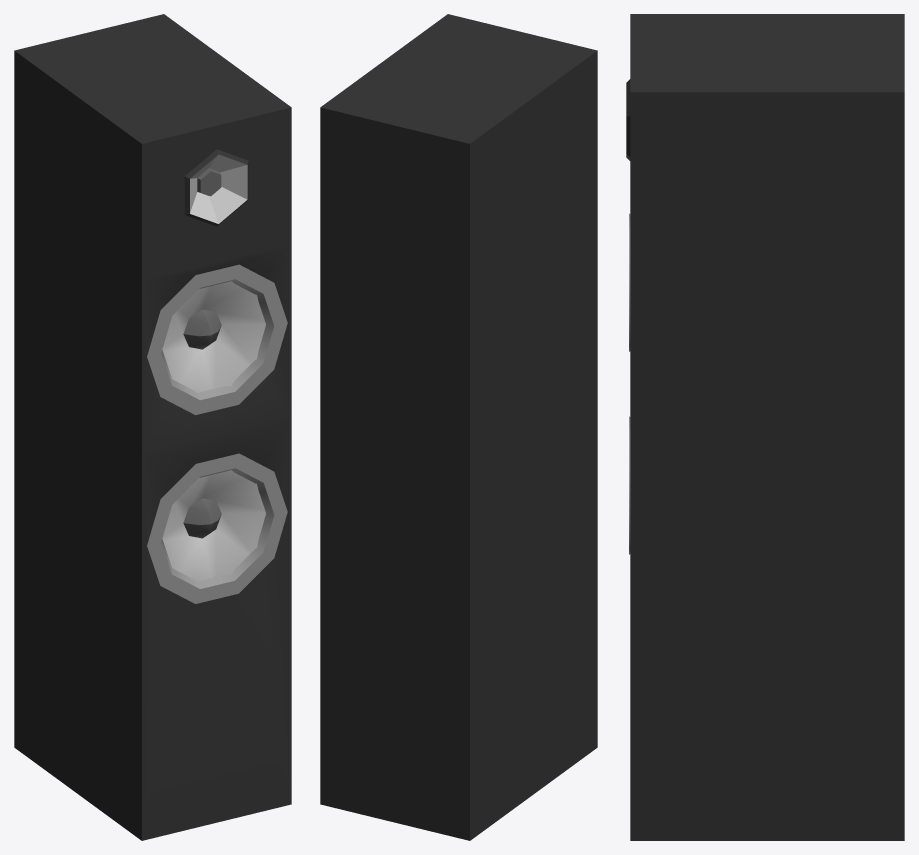
The model's file is Television_Parlante01.fbx.
3 views of the same model, side by side, from view 1: azimuth 30°, elevation 25°; view 2: azimuth 150°, elevation 25°; view 3: azimuth 270°, elevation 25° (orthographic). The views are drawn at different scales.
Parts seen in each view (by area): view 1: Television_Parlante01; view 2: Television_Parlante01; view 3: Television_Parlante01.
Part boxes in pixels (x1,y1,x2,y2): Television_Parlante01: (14,14,291,840); Television_Parlante01: (320,14,597,840); Television_Parlante01: (626,14,904,840).
Size of the model in its own units: 33 by 147 by 49.44.
